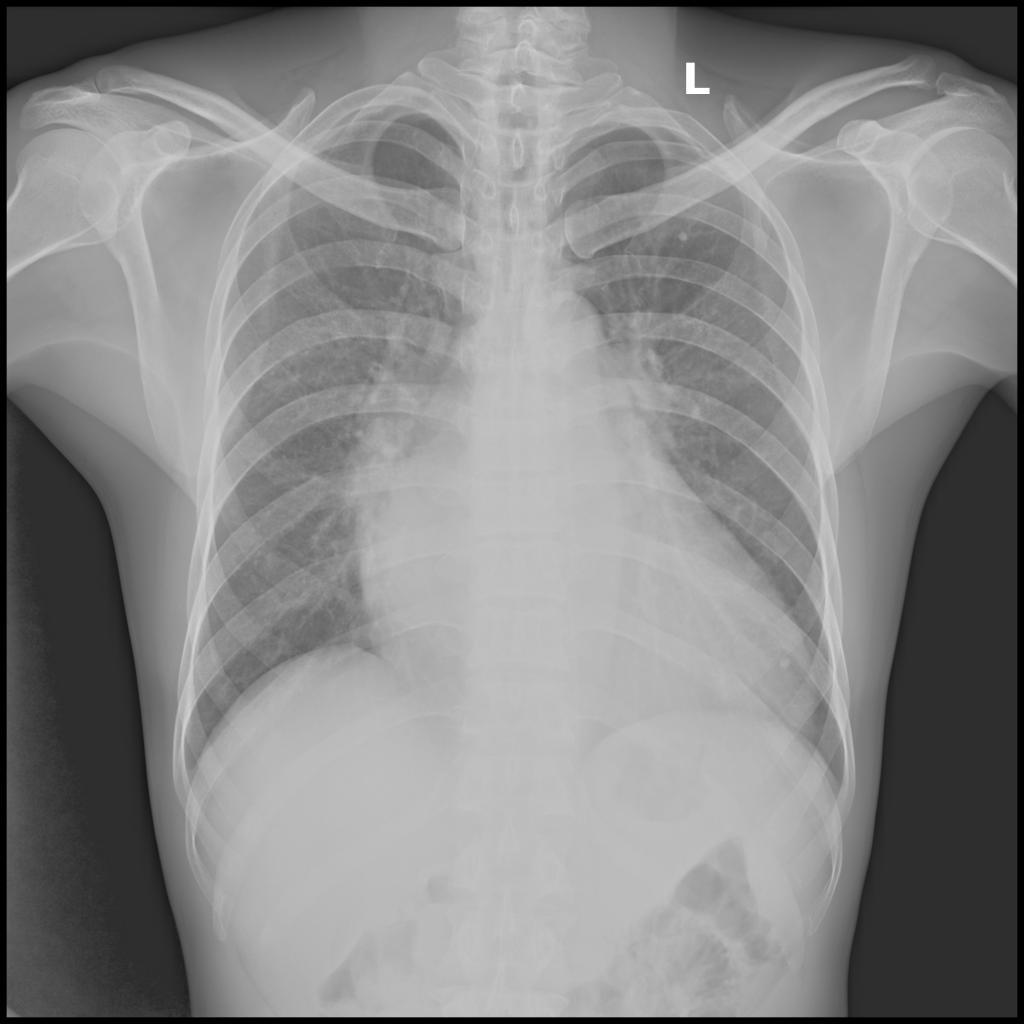Nodule: (780, 658, 792, 670)
